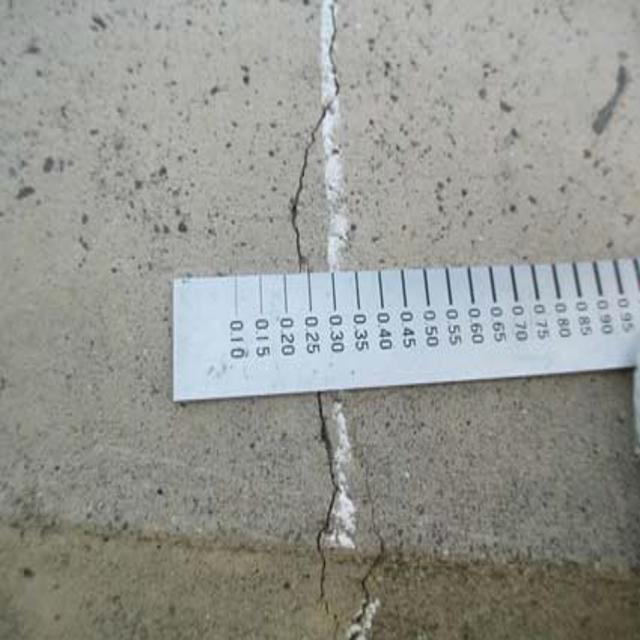crack: (306, 403, 384, 637), (273, 6, 341, 271)
